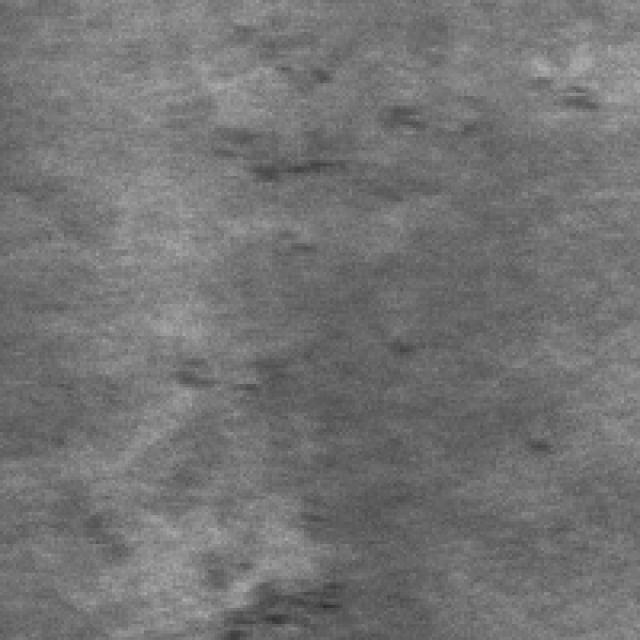rolled-in_scale: (141, 339, 339, 637), (208, 42, 582, 192)
